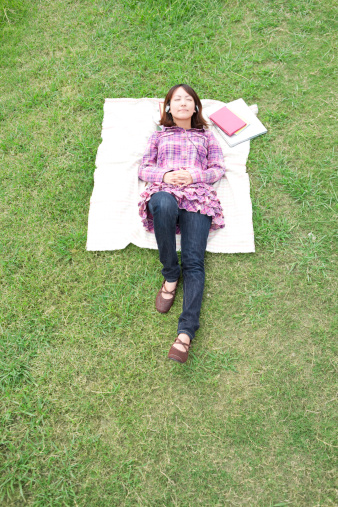deitado: (142, 75, 218, 355)
